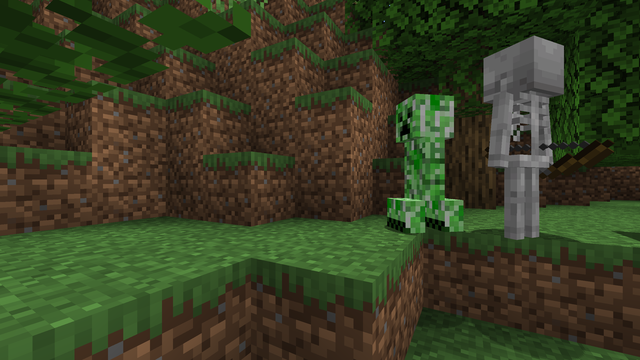creepers: (393, 83, 450, 235)
squelettes: (487, 31, 568, 246)
